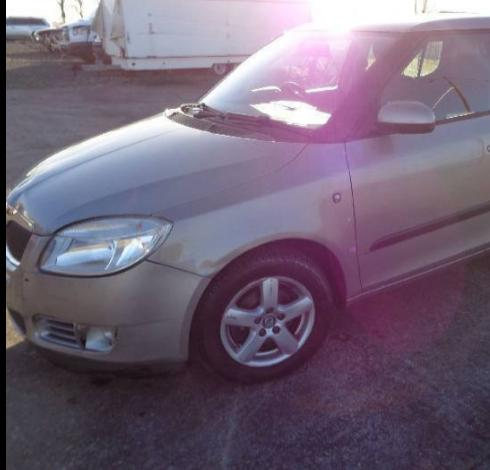Dent: (198, 259, 230, 276)
Scratch: (350, 247, 357, 252), (348, 218, 350, 221)
